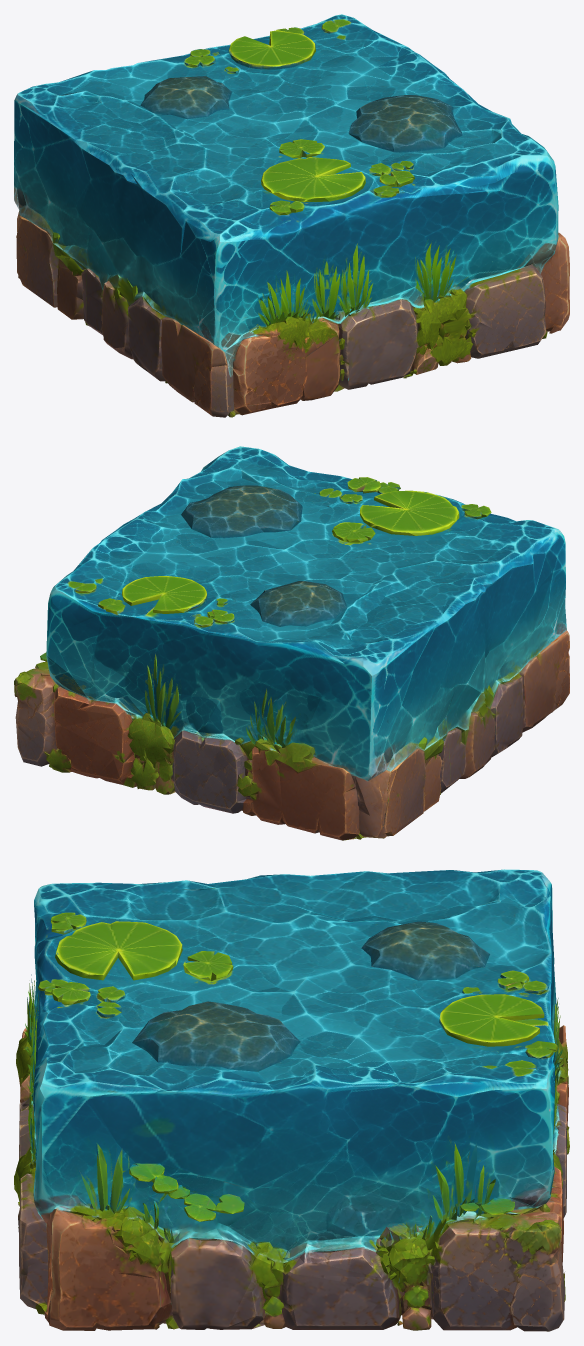
The model's file is water.glb.
3 renders of one model, top to bottom at view 1: azimuth 30°, elevation 25°; view 2: azimuth 150°, elevation 25°; view 3: azimuth 270°, elevation 25°, orthographic. The views are drawn at different scales.
Size of the model in its own units: 1.9 by 0.9428 by 1.88.
Materials: 1 (1 with a texture image).
